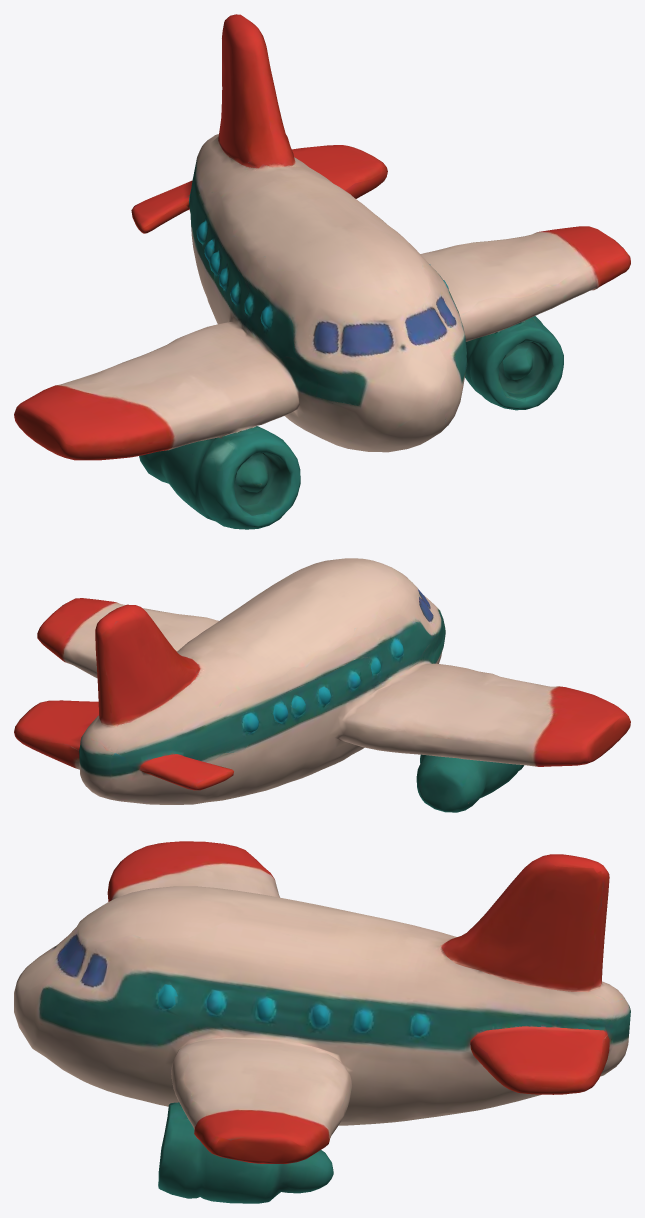
3 views of the same model, one above another, from view 1: azimuth 30°, elevation 25°; view 2: azimuth 150°, elevation 25°; view 3: azimuth 270°, elevation 25° (orthographic). The views are drawn at different scales.
Parts seen in each view (by area): view 1: world; view 2: world; view 3: world.
Boxes of the visible parts, left/top/right/bottom form: world: left=14, top=14, right=630, bottom=529; world: left=14, top=558, right=630, bottom=812; world: left=14, top=841, right=630, bottom=1203.
Bounding box in the file's own units: 0.9501 × 0.4443 × 0.797.
Materials: 1 (1 with a texture image).
